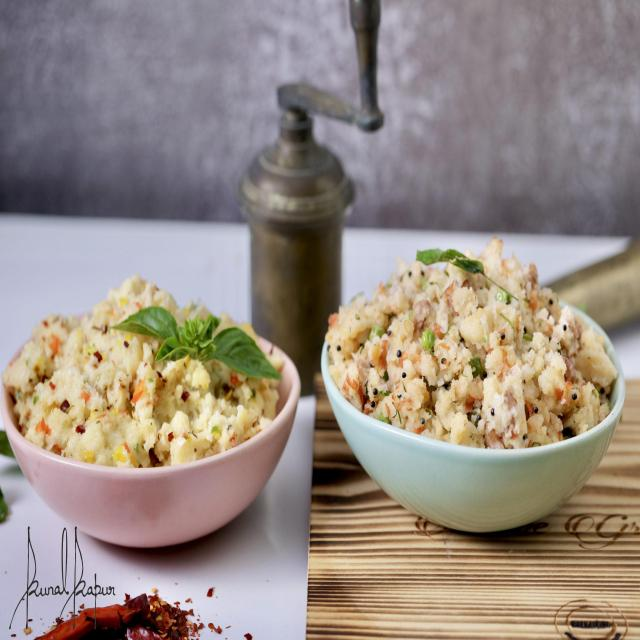UPMA: (324, 244, 616, 445), (6, 285, 279, 465)
